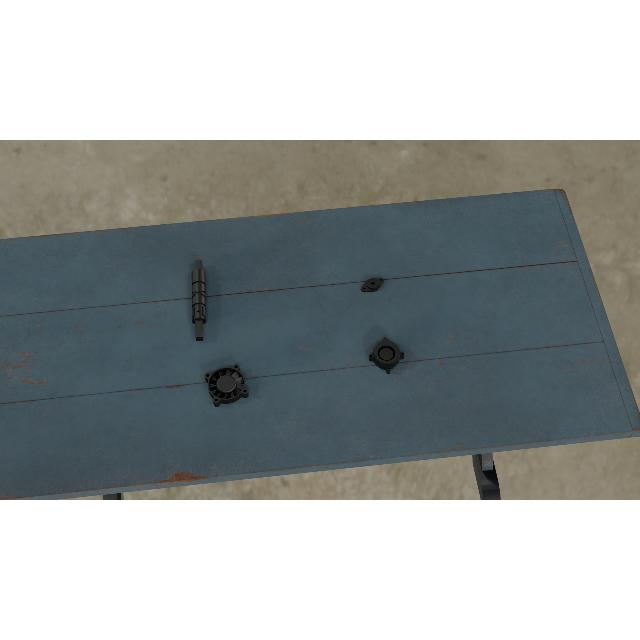Pieza1: (191, 258, 207, 342)
Pieza2: (358, 274, 388, 296)
Pieza3: (368, 336, 406, 376)
Pieza4: (203, 363, 250, 409)
